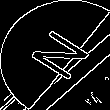N_SE: (18, 24, 92, 86)
